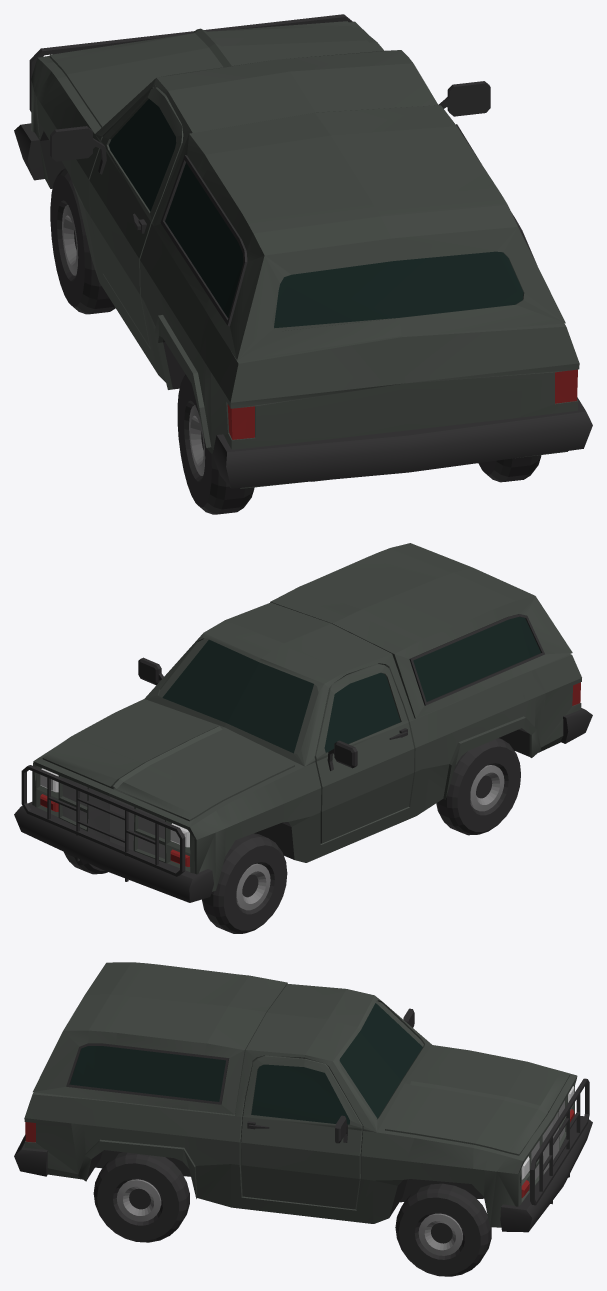
The model's file is Jeep1obj.fbx.
3 renders of one model, top to bottom at view 1: azimuth 30°, elevation 25°; view 2: azimuth 150°, elevation 25°; view 3: azimuth 270°, elevation 25°, orthographic. The views are drawn at different scales.
Visible parts, largest first — view 1: Jeep1obj; view 2: Jeep1obj; view 3: Jeep1obj.
Part boxes in pixels (x1,y1,x2,y2): Jeep1obj: [14, 14, 592, 514]; Jeep1obj: [14, 543, 592, 933]; Jeep1obj: [14, 962, 592, 1276].
Size of the model in its own units: 3.9 by 2.34 by 6.13.
Materials: 2 (1 with a texture image).
